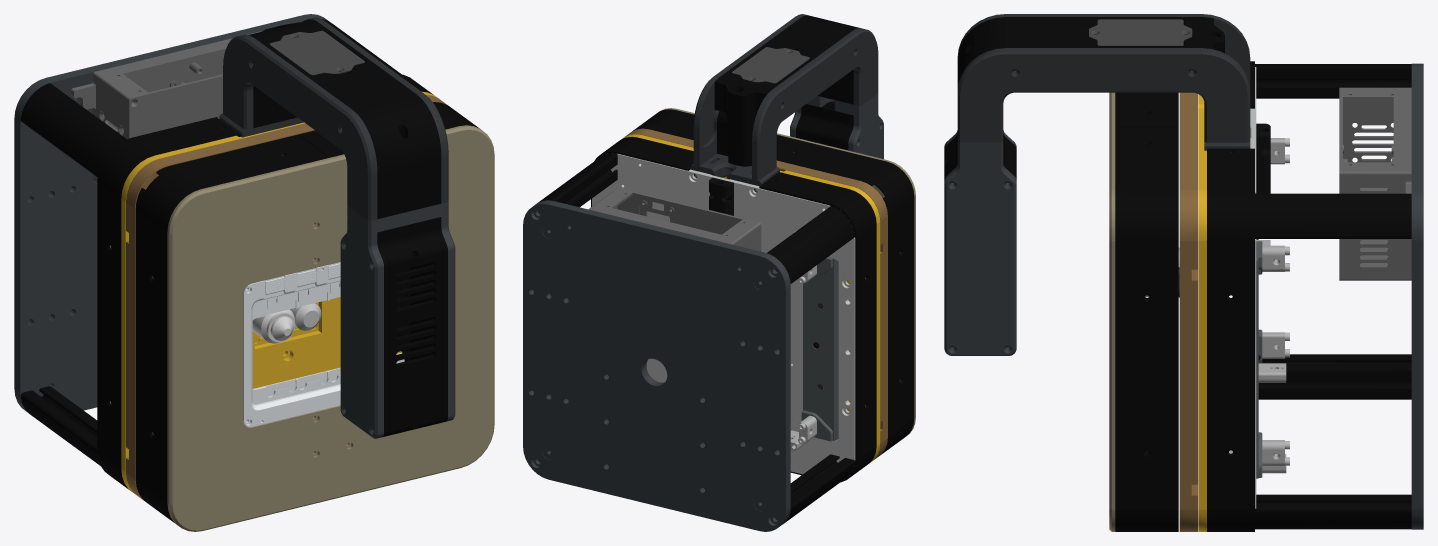
Rendered from FRAME_reduced-compressed.glb.
The picture shows the model from 3 angles, left to right: view 1: azimuth 30°, elevation 25°; view 2: azimuth 150°, elevation 25°; view 3: azimuth 270°, elevation 25°; orthographic projection. The views are drawn at different scales.
Parts seen in each view (by area): view 1: empty_52, empty_2, empty_53, empty_48, empty_32, empty_43, empty_49, empty_45, empty_54, empty_50, empty_55, empty_47 (+13 smaller); view 2: empty_2, empty_3, empty_53, empty_32, empty_48, empty_43, empty_8, empty_55, empty_21, empty_38, empty_42, empty_20 (+9 smaller); view 3: empty_53, empty_32, empty_42, empty_44, empty_36, empty_55, empty_7, empty_20, empty_2, empty_48, empty_19, empty_21 (+14 smaller).
Boxes of the visible parts, <box> form: empty_52: <box>167,125,494,531</box>; empty_2: <box>14,14,329,412</box>; empty_53: <box>135,102,479,525</box>; empty_48: <box>248,19,441,219</box>; empty_32: <box>97,74,433,491</box>; empty_43: <box>223,34,377,220</box>; empty_49: <box>386,242,442,435</box>; empty_45: <box>340,219,383,438</box>; empty_54: <box>243,262,404,426</box>; empty_50: <box>121,91,437,495</box>; empty_55: <box>126,95,447,502</box>; empty_47: <box>377,217,447,437</box>; empty_2: <box>523,200,790,531</box>; empty_3: <box>592,153,855,475</box>; empty_53: <box>633,109,914,454</box>; empty_32: <box>591,137,876,482</box>; empty_48: <box>714,15,859,166</box>; empty_43: <box>752,28,878,180</box>; empty_8: <box>801,256,838,441</box>; empty_55: <box>625,128,887,459</box>; empty_21: <box>767,206,854,283</box>; empty_38: <box>616,187,761,251</box>; empty_42: <box>693,14,807,166</box>; empty_20: <box>775,454,854,523</box>; empty_53: <box>1115,92,1178,531</box>; empty_32: <box>1207,61,1254,531</box>; empty_42: <box>957,48,1250,142</box>; empty_44: <box>944,155,1016,355</box>; empty_36: <box>1343,87,1405,280</box>; empty_55: <box>1179,92,1197,531</box>; empty_7: <box>1255,193,1411,238</box>; empty_20: <box>1258,354,1411,399</box>; empty_2: <box>1411,63,1423,529</box>; empty_48: <box>957,17,1224,89</box>; empty_19: <box>1255,494,1411,529</box>; empty_21: <box>1255,64,1411,98</box>.
Bounding box in the file's own units: 310 × 397 × 398.
